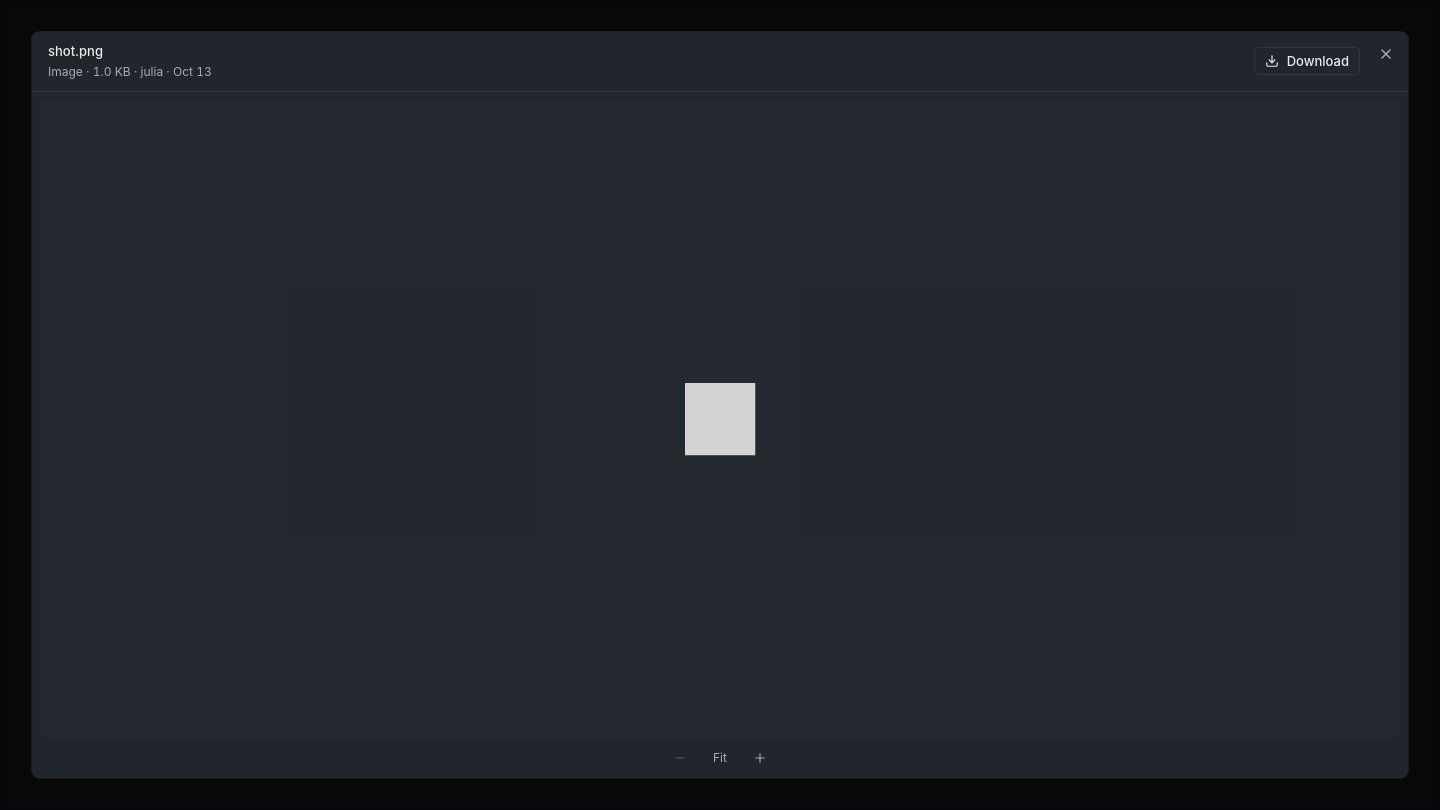
the preview's right-click menu › says plainly when copying fails
The image size is (1440, 810).
Right-click the element with test id "zoom-frame" at (720, 419), box x1=40 y1=100 x2=1400 y2=738
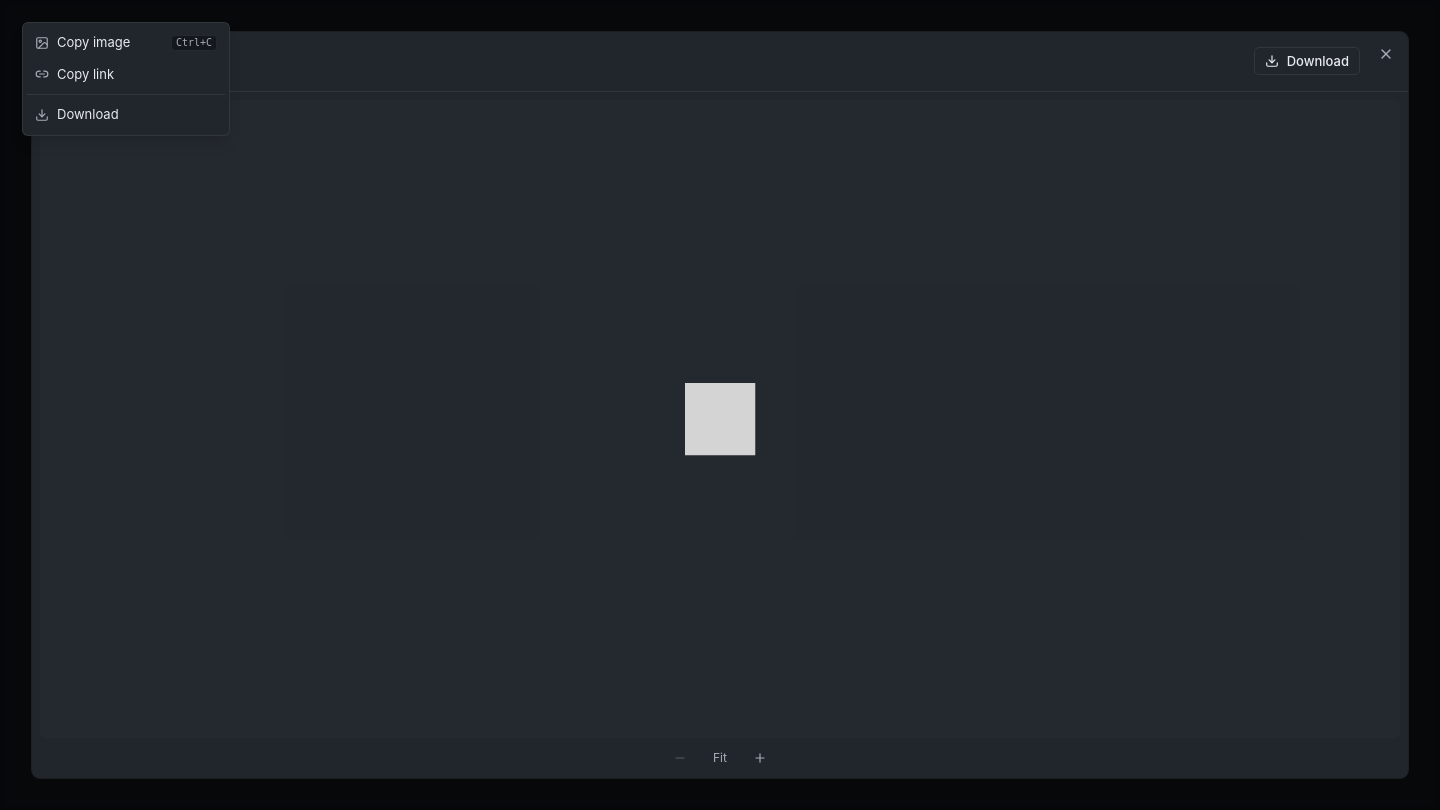
Click the text "Copy image" at (94, 42), box x1=57 y1=34 x2=130 y2=50
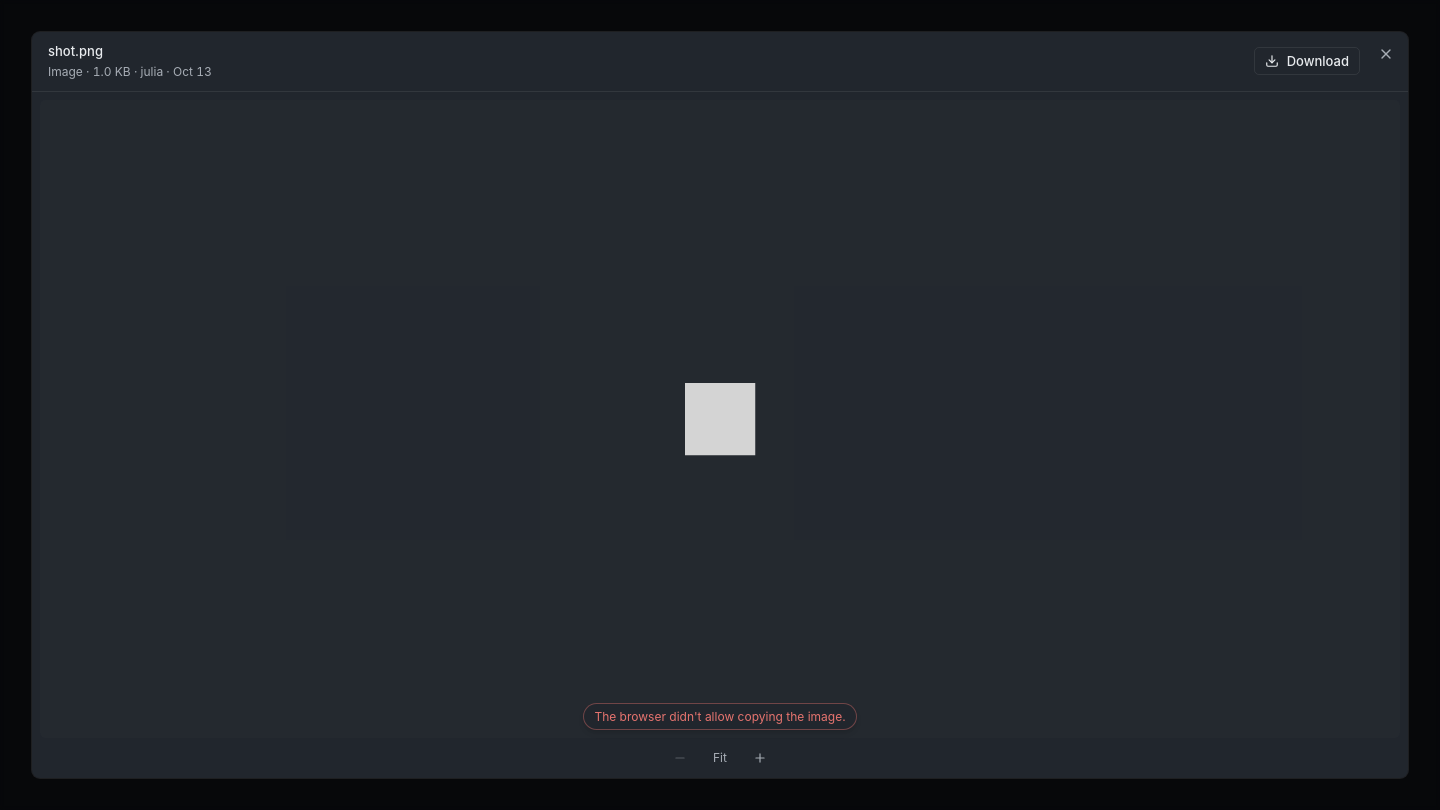
Expected: the text "The browser didn't allow copying the image." is shown, x1=583 y1=703 x2=857 y2=730
